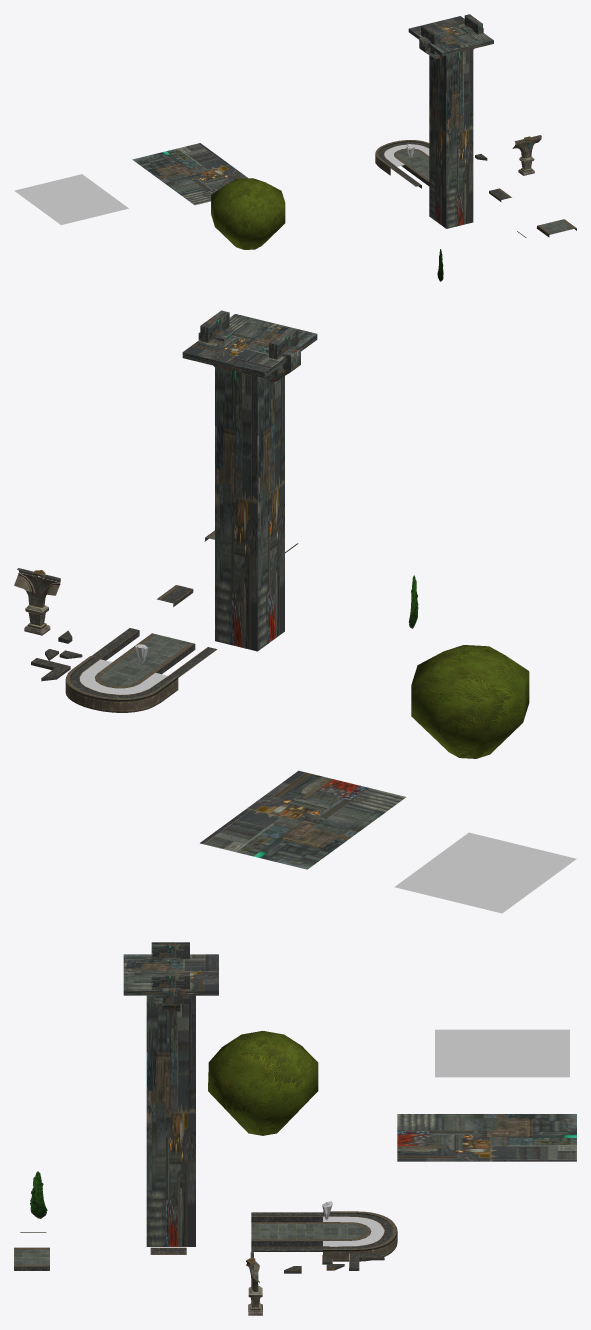
Rendered from f_1131_wujian.FBX.
3 renders of one model, top to bottom at view 1: azimuth 30°, elevation 25°; view 2: azimuth 150°, elevation 25°; view 3: azimuth 270°, elevation 25°, orthographic. The views are drawn at different scales.
Visible parts, largest first — view 1: d_103_Prospect08, Cylinder001, Plane001, Plane002, f_2102_frool_02, w_1009_railing23, Object013, Object036; view 2: d_103_Prospect08, Plane001, Cylinder001, Plane002, f_2102_frool_02, w_1009_railing23, Object036; view 3: d_103_Prospect08, Plane001, Cylinder001, Plane002, f_2102_frool_02, Object036, Object013, w_1009_railing23, Plane003.
Part boxes in pixels (x1,y1,x2,y2): d_103_Prospect08: (408,14,493,228); Cylinder001: (211,178,285,249); Plane001: (132,143,247,205); Plane002: (14,174,128,224); f_2102_frool_02: (375,140,429,188); w_1009_railing23: (512,135,541,175); Object013: (536,219,576,237); Object036: (384,144,429,166); d_103_Prospect08: (182,310,317,651); Plane001: (200,770,406,869); Cylinder001: (411,645,529,758); Plane002: (394,832,576,913); f_2102_frool_02: (65,628,217,712); w_1009_railing23: (14,568,60,635); Object036: (80,659,167,694); d_103_Prospect08: (123,942,218,1246); Plane001: (397,1114,576,1161); Cylinder001: (208,1031,318,1135); Plane002: (435,1029,569,1077); f_2102_frool_02: (251,1211,397,1261); Object036: (323,1216,384,1246); Object013: (14,1247,49,1270); w_1009_railing23: (246,1252,262,1315); Plane003: (30,1171,47,1218).
Size of the model in its own units: 19156 by 9197 by 15646.
